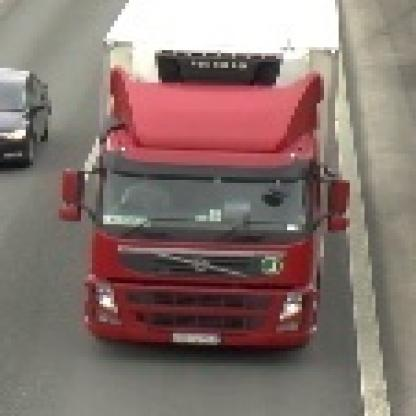truck: (53, 1, 351, 352)
